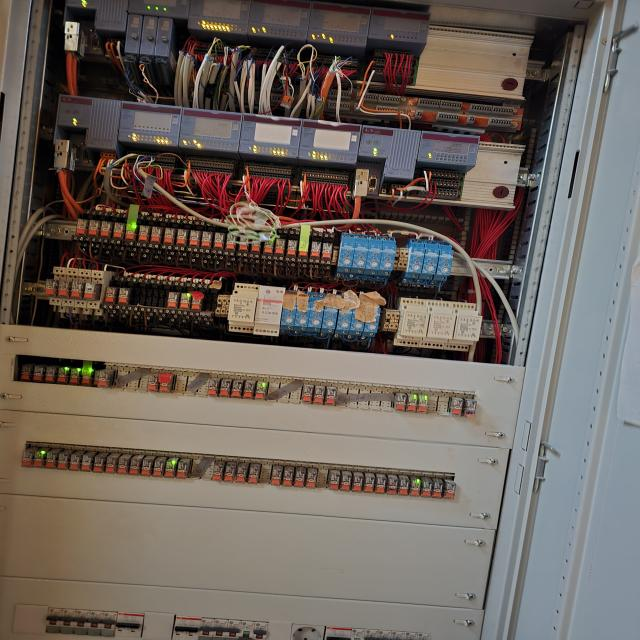Dimmer: (443, 301, 483, 352), (418, 299, 456, 350), (394, 297, 430, 347), (253, 285, 286, 337), (228, 282, 260, 333), (405, 243, 426, 278), (279, 294, 298, 330), (419, 244, 438, 280), (306, 297, 325, 332), (335, 300, 354, 335), (294, 295, 312, 331), (365, 239, 383, 275), (348, 302, 367, 336), (350, 242, 370, 274), (378, 241, 396, 276), (363, 303, 381, 337), (321, 298, 338, 333), (338, 241, 355, 267)
Leitungsschutzschalter: (59, 609, 77, 634), (100, 611, 118, 636), (114, 612, 132, 637), (73, 609, 90, 635), (87, 610, 104, 636), (171, 616, 189, 640), (46, 608, 63, 633), (185, 617, 202, 640), (128, 613, 144, 637), (211, 619, 229, 640), (198, 618, 215, 640), (225, 620, 242, 640), (251, 621, 268, 640), (239, 620, 255, 640), (363, 472, 375, 493), (450, 397, 463, 416), (341, 470, 352, 492), (352, 471, 363, 493), (464, 398, 476, 418), (112, 222, 126, 239), (117, 288, 131, 305), (394, 392, 406, 411), (282, 468, 294, 487), (323, 626, 339, 640), (103, 287, 117, 303), (76, 218, 89, 235), (150, 226, 163, 243), (200, 231, 213, 248), (213, 232, 226, 249), (44, 279, 57, 296), (325, 386, 336, 406), (306, 468, 317, 488), (329, 470, 340, 490), (376, 474, 387, 494), (398, 476, 409, 496), (421, 478, 432, 498), (158, 374, 170, 392), (56, 452, 68, 470), (80, 454, 92, 472), (418, 394, 428, 415), (388, 474, 398, 495), (406, 393, 417, 412), (34, 449, 45, 468), (224, 463, 235, 482), (444, 480, 455, 499), (88, 220, 101, 236), (100, 221, 113, 237), (125, 224, 138, 240), (138, 225, 151, 241), (163, 228, 176, 244), (167, 292, 180, 308), (176, 229, 188, 246), (189, 230, 201, 247), (238, 235, 250, 252), (70, 281, 82, 298), (179, 293, 191, 310), (70, 452, 80, 472), (214, 461, 224, 481), (295, 468, 305, 488), (410, 476, 420, 496), (432, 478, 442, 498), (243, 381, 254, 399), (165, 460, 176, 478), (236, 464, 247, 482), (337, 627, 352, 640), (99, 371, 112, 386), (225, 234, 237, 250), (263, 238, 275, 254), (274, 239, 286, 255), (83, 283, 95, 299), (177, 462, 189, 478), (303, 384, 313, 403), (314, 386, 324, 405), (22, 449, 32, 468), (191, 294, 202, 311), (255, 382, 266, 399), (153, 459, 164, 476), (350, 628, 365, 640), (321, 243, 333, 258), (82, 368, 92, 386), (148, 374, 158, 392), (94, 456, 104, 474), (106, 456, 116, 474), (118, 457, 128, 475), (142, 459, 152, 477), (248, 465, 258, 483), (272, 466, 281, 486), (250, 237, 261, 253), (287, 240, 298, 256), (298, 241, 309, 257), (59, 280, 69, 297), (70, 368, 80, 385), (220, 380, 230, 397), (232, 381, 242, 398), (46, 451, 56, 468), (130, 458, 140, 475), (310, 242, 321, 257), (208, 379, 218, 395), (364, 629, 378, 640), (378, 629, 392, 640), (58, 368, 68, 383), (22, 364, 31, 380), (33, 366, 42, 382), (46, 366, 54, 383), (391, 631, 405, 640), (403, 632, 418, 640), (417, 633, 431, 640), (94, 370, 99, 385)
SPS-System -Steuerungskomponente-: (306, 1, 372, 47), (119, 100, 183, 147), (179, 107, 244, 153), (239, 113, 303, 159), (298, 119, 362, 165), (248, 0, 312, 40), (56, 93, 121, 130), (368, 7, 431, 44), (417, 131, 481, 167), (186, 0, 251, 35), (359, 124, 422, 160)
Verbinder: (382, 309, 400, 332), (393, 247, 409, 271), (215, 295, 230, 317)
